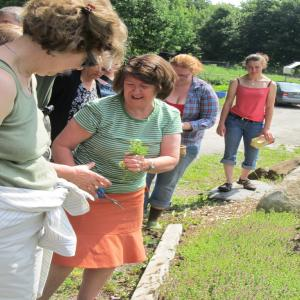Vehicle-registration-plate: (296, 95, 300, 98)
